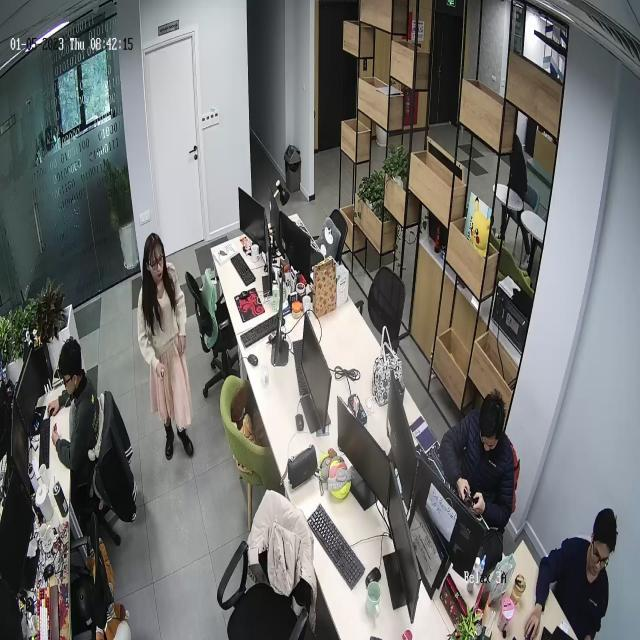person: (138, 234, 196, 461), (524, 508, 618, 640), (438, 391, 515, 531), (47, 338, 100, 477)
